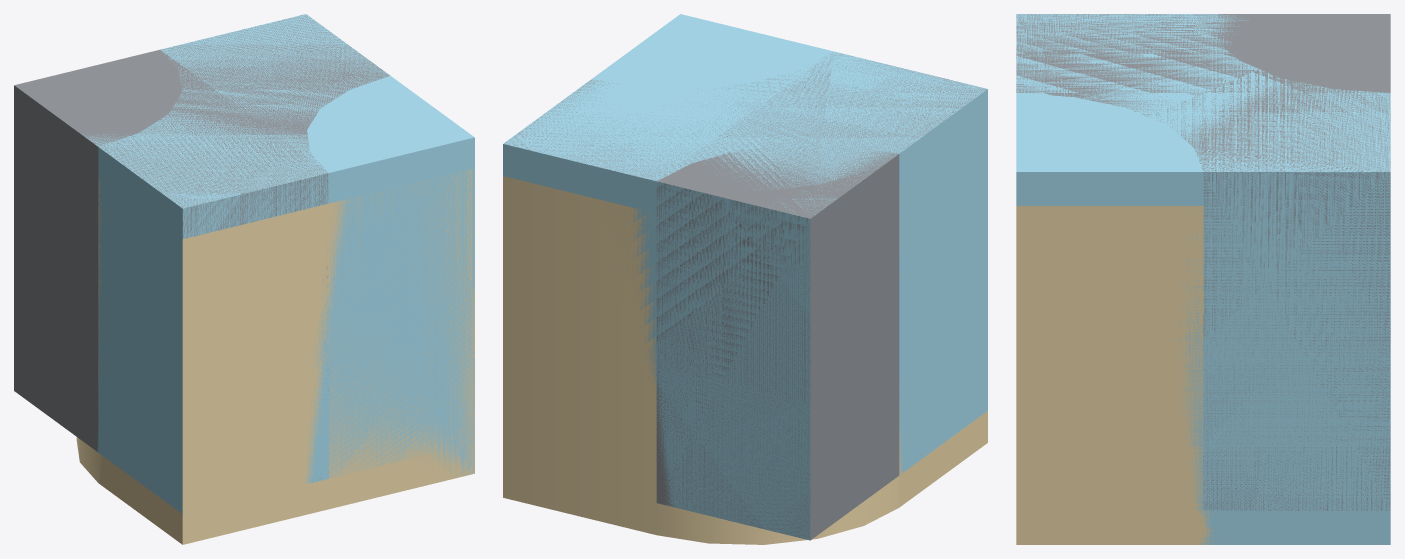
File: My_Tile.fbx
3 renders of one model, left to right at view 1: azimuth 30°, elevation 25°; view 2: azimuth 150°, elevation 25°; view 3: azimuth 270°, elevation 25°, orthographic. The views are drawn at different scales.
Parts seen in each view (by area): view 1: tile_canbuild, tile_outer_corner_road_1, tile_outer_corner_small, tile_inner_corner, tile_inner_corner_road, tile_sideway_road, tile_inner_corner_small, tile_sideway, tile_outer_corner_road; view 2: tile_canbuild, tile_outer_corner_road_1, tile_outer_corner_small, tile_sideway, tile_inner_corner_small, tile_inner_corner, tile_outer_corner_road; view 3: tile_canbuild, tile_outer_corner_road_1, tile_inner_corner, tile_sideway_road, tile_outer_corner_road, tile_outer_corner_small, tile_inner_corner_road, tile_sideway, tile_inner_corner_small.
Part boxes in pixels (x1=…): tile_canbuild: x1=83, y1=14, x2=474, y2=513; tile_outer_corner_road_1: x1=76, y1=178, x2=351, y2=544; tile_outer_corner_small: x1=14, y1=50, x2=181, y2=451; tile_inner_corner: x1=82, y1=14, x2=390, y2=277; tile_inner_corner_road: x1=328, y1=169, x2=474, y2=509; tile_sideway_road: x1=334, y1=168, x2=474, y2=476; tile_inner_corner_small: x1=14, y1=50, x2=158, y2=452; tile_sideway: x1=101, y1=51, x2=328, y2=472; tile_outer_corner_road: x1=99, y1=427, x2=328, y2=544; tile_canbuild: x1=503, y1=14, x2=987, y2=540; tile_outer_corner_road_1: x1=503, y1=176, x2=900, y2=544; tile_outer_corner_small: x1=657, y1=145, x2=899, y2=537; tile_sideway: x1=656, y1=55, x2=983, y2=539; tile_inner_corner_small: x1=656, y1=160, x2=899, y2=540; tile_inner_corner: x1=504, y1=52, x2=986, y2=215; tile_outer_corner_road: x1=585, y1=198, x2=987, y2=507; tile_canbuild: x1=1016, y1=14, x2=1390, y2=510; tile_outer_corner_road_1: x1=1016, y1=206, x2=1209, y2=544; tile_inner_corner: x1=1016, y1=14, x2=1390, y2=510; tile_sideway_road: x1=1197, y1=206, x2=1390, y2=544; tile_outer_corner_road: x1=1018, y1=206, x2=1214, y2=544; tile_outer_corner_small: x1=1206, y1=14, x2=1390, y2=92; tile_inner_corner_road: x1=1156, y1=206, x2=1203, y2=544; tile_sideway: x1=1016, y1=14, x2=1381, y2=92; tile_inner_corner_small: x1=1211, y1=14, x2=1390, y2=92.
Bounding box in the file's own units: 100 × 110 × 100.
